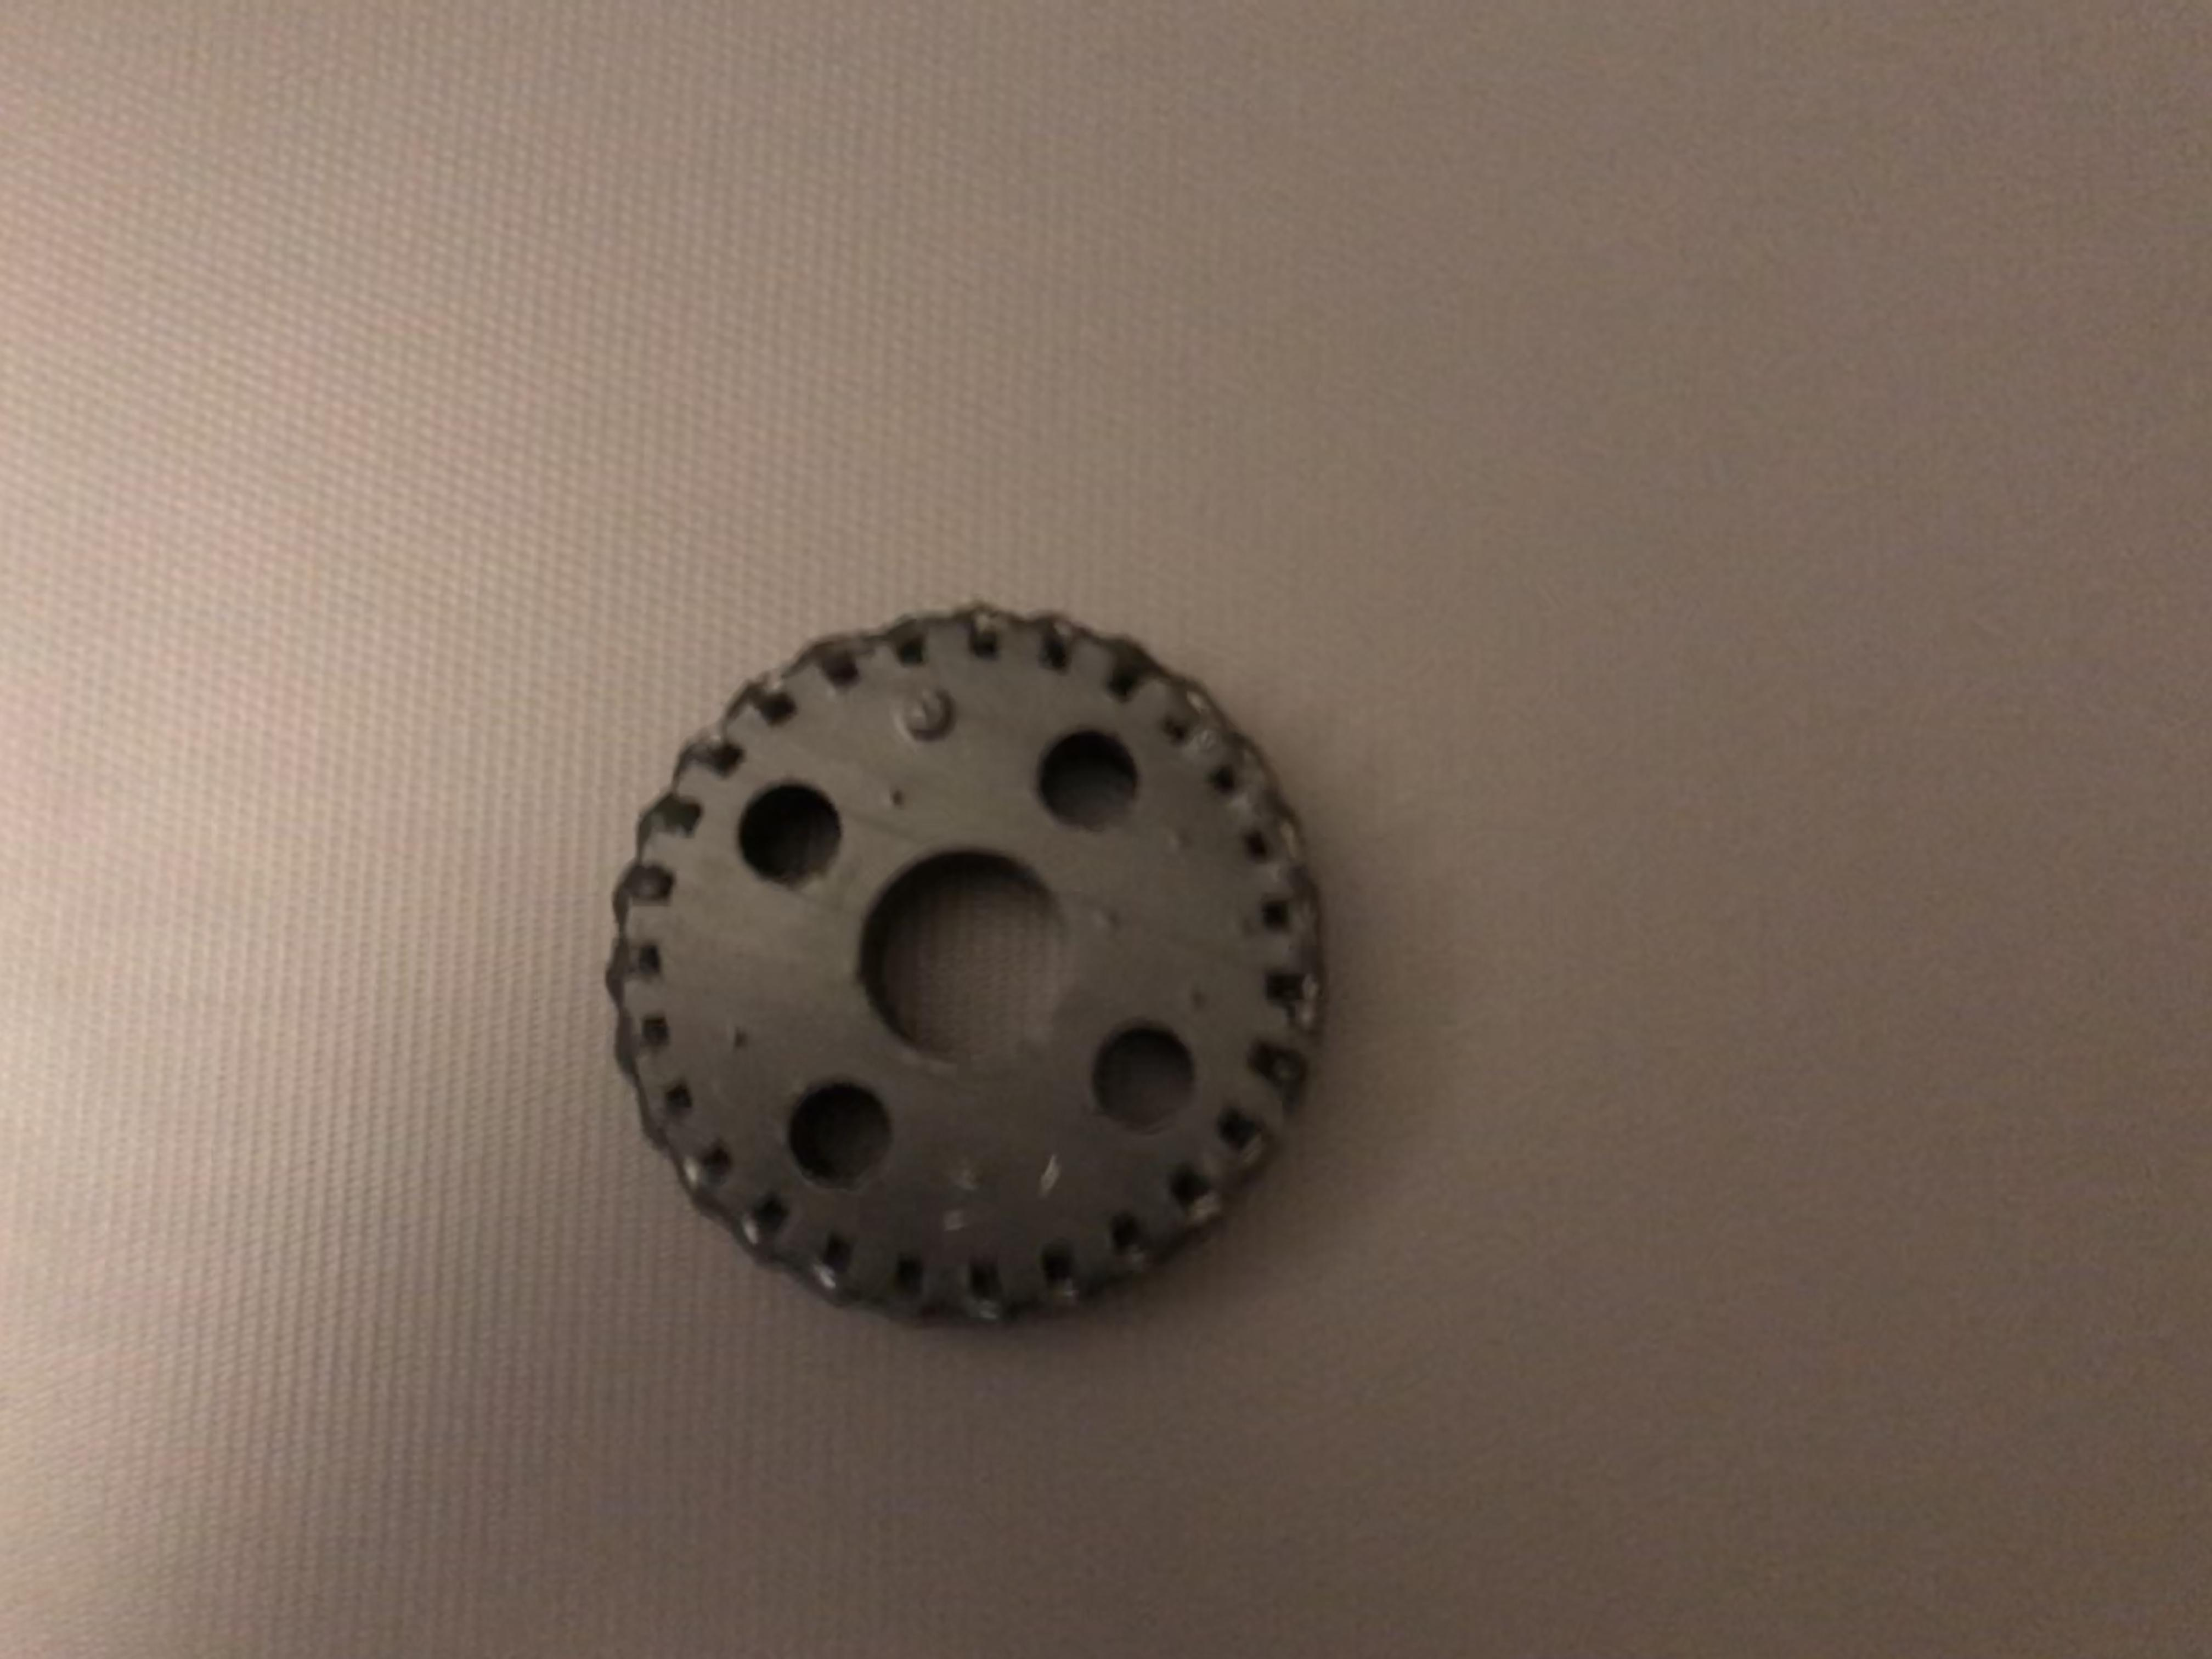Wheel: (610, 592, 1362, 1352)
